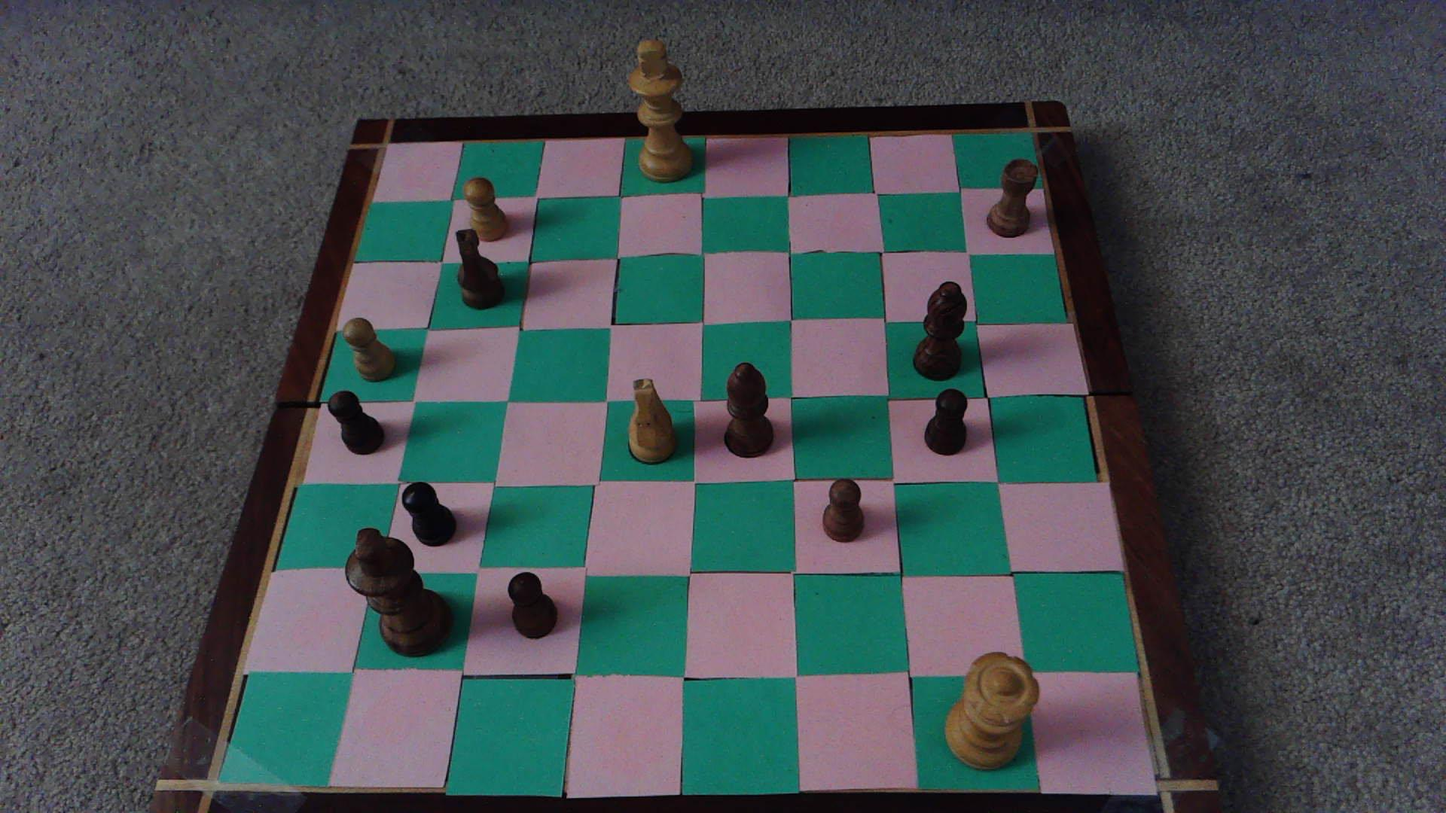dark_piece: (345, 528, 450, 656), (914, 281, 966, 379), (725, 362, 773, 455), (454, 229, 504, 310), (987, 159, 1037, 236), (328, 391, 383, 454), (403, 482, 455, 546), (508, 572, 557, 638), (925, 388, 966, 454), (822, 479, 864, 541)
white_piece: (945, 653, 1038, 768), (630, 40, 694, 181), (627, 377, 677, 465), (343, 317, 394, 381), (465, 178, 508, 241)
